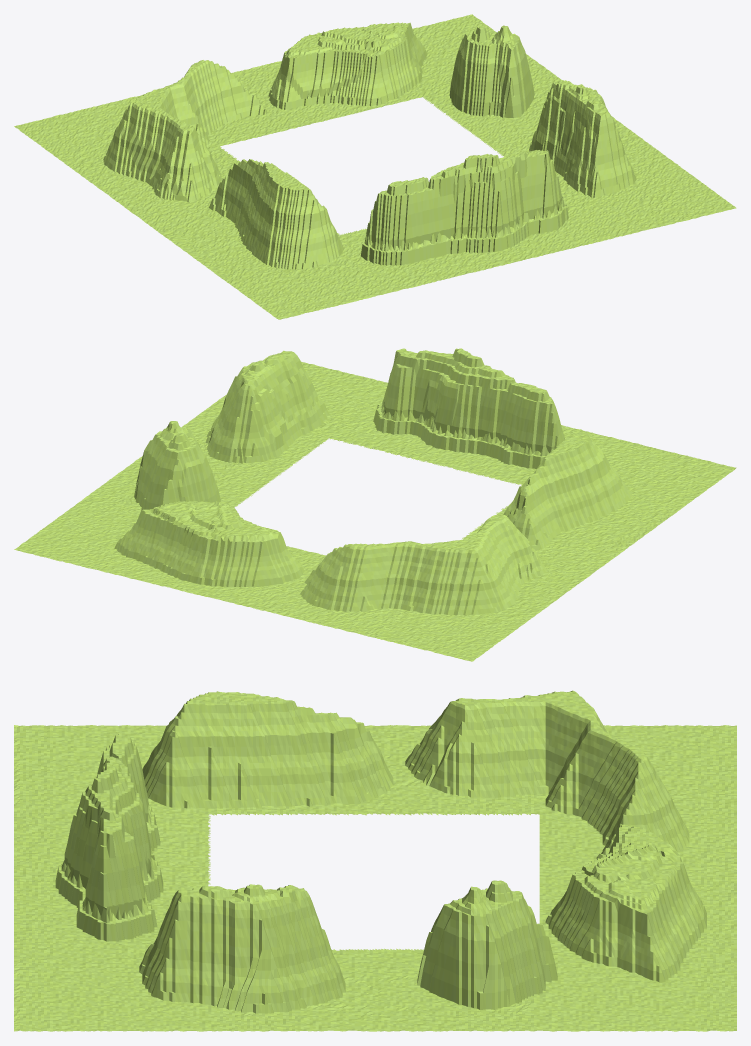
File: Mountains2.fbx
3 views of the same model, one above another, from view 1: azimuth 30°, elevation 25°; view 2: azimuth 150°, elevation 25°; view 3: azimuth 270°, elevation 25° (orthographic). The views are drawn at different scales.
Visible parts, largest first — view 1: Plane.002; view 2: Plane.002; view 3: Plane.002.
Part boxes in pixels (x1,y1,x2,y2): Plane.002: (14, 14, 736, 319); Plane.002: (14, 348, 736, 661); Plane.002: (14, 690, 736, 1031).
Size of the model in its own units: 78493 by 13365 by 78493.
